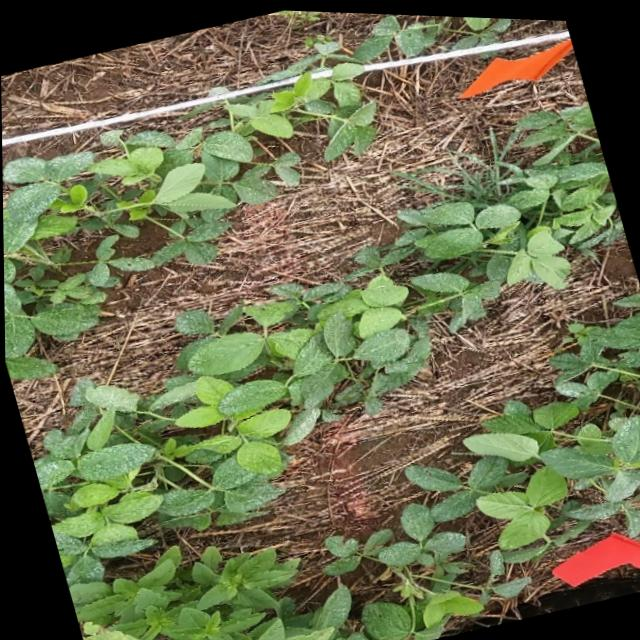caruru_weed: (66, 544, 366, 640)
grassy_weed: (395, 125, 532, 204)
soy_plant: (32, 102, 620, 583), (2, 12, 508, 377), (324, 286, 640, 640)
